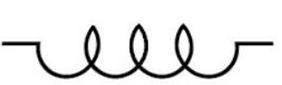inductor: (25, 13, 255, 78)
